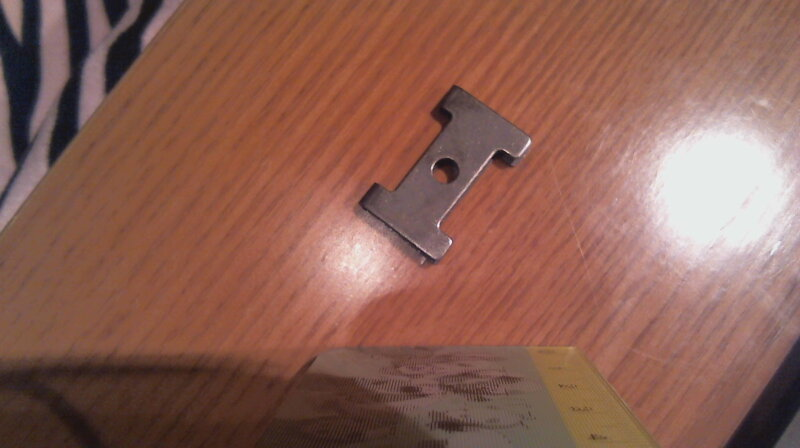O002: (354, 84, 534, 266)
